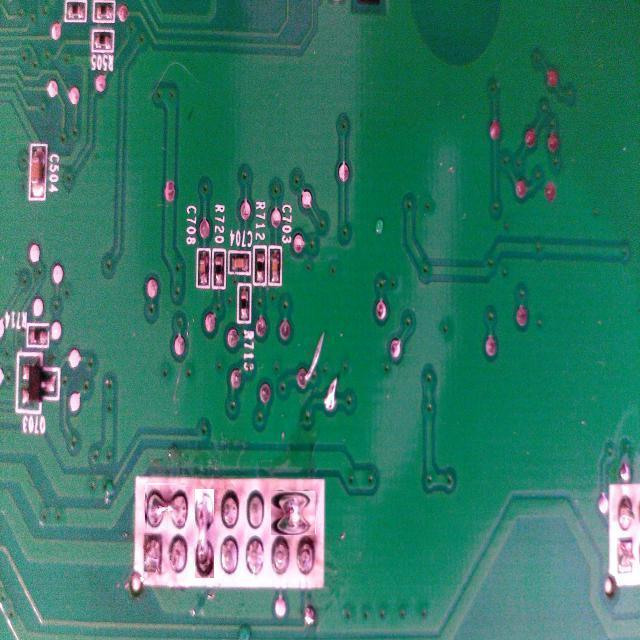Short_circuit: (271, 490, 316, 535), (146, 484, 186, 532), (195, 489, 214, 578)
